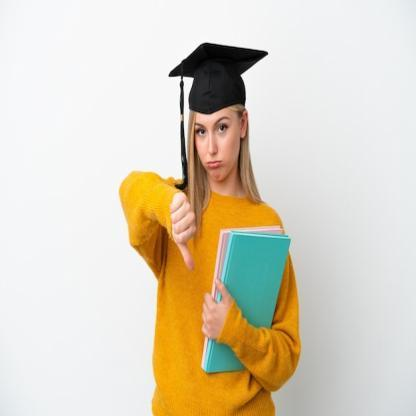thumb_down: (166, 187, 198, 274)
